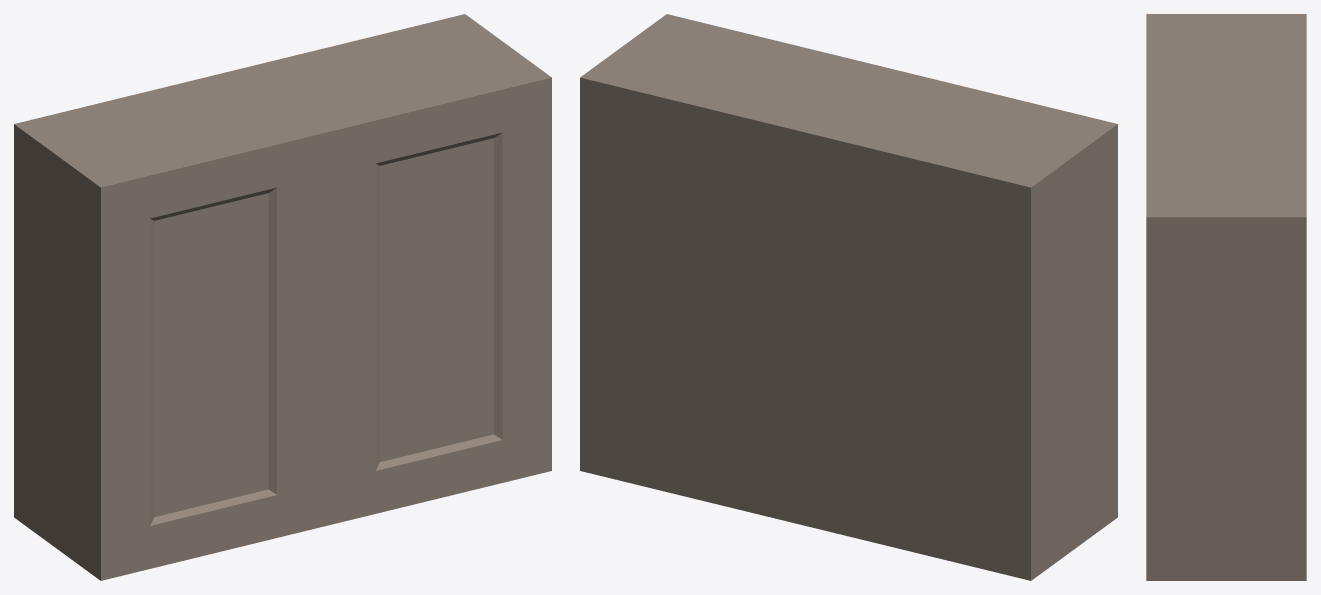
The model's file is WHP-Wall-Cabinet-Double-Door-Shelves_std_001_W36in.glb.
The picture shows the model from 3 angles, left to right: view 1: azimuth 30°, elevation 25°; view 2: azimuth 150°, elevation 25°; view 3: azimuth 270°, elevation 25°; orthographic projection. The views are drawn at different scales.
Visible parts, largest first — view 1: WHP-Wall-Cabinet-Double-Door-Shelves.std.001_W36in; view 2: WHP-Wall-Cabinet-Double-Door-Shelves.std.001_W36in; view 3: WHP-Wall-Cabinet-Double-Door-Shelves.std.001_W36in.
Boxes of the visible parts, x1,y1,x2,y2 form: WHP-Wall-Cabinet-Double-Door-Shelves.std.001_W36in: [14, 14, 551, 580]; WHP-Wall-Cabinet-Double-Door-Shelves.std.001_W36in: [580, 14, 1117, 580]; WHP-Wall-Cabinet-Double-Door-Shelves.std.001_W36in: [1146, 14, 1306, 580].
Size of the model in its own units: 0.9144 by 0.762 by 0.3048.
